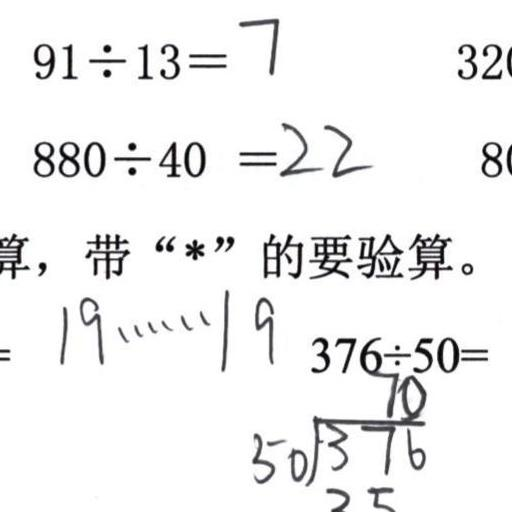ans: (50, 283, 278, 371), (273, 114, 371, 180), (235, 8, 280, 74)
